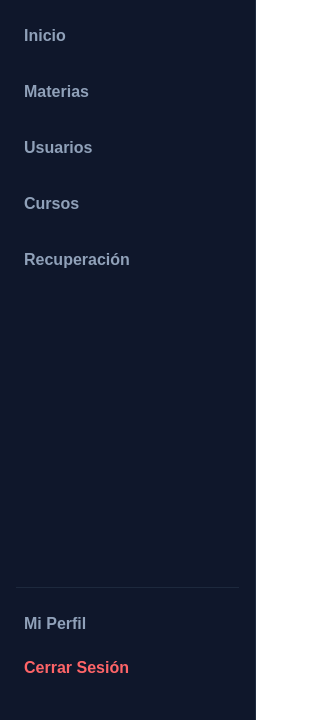
Test: AppSidebar + auth (integration, network mocked with MSW) › logout clears the session and the query cache, then shows the login links
Expected: the link "Usuarios" is shown, [24,139,92,156]
Click the button "Cerrar Sesión": (128, 668) [16,648,239,688]
(page scrolled)
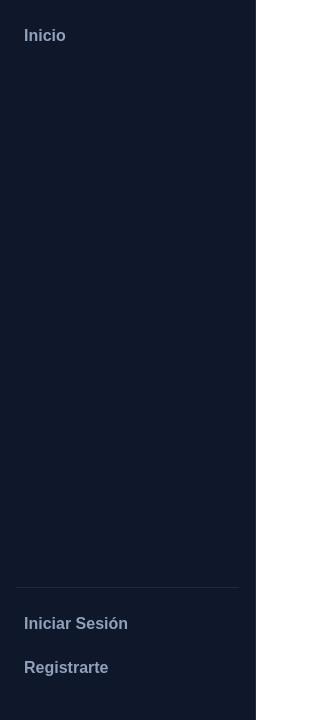
Expected: the link "Iniciar Sesión" is shown, [24,615,128,632]
Expected: the link "Usuarios" is gone
